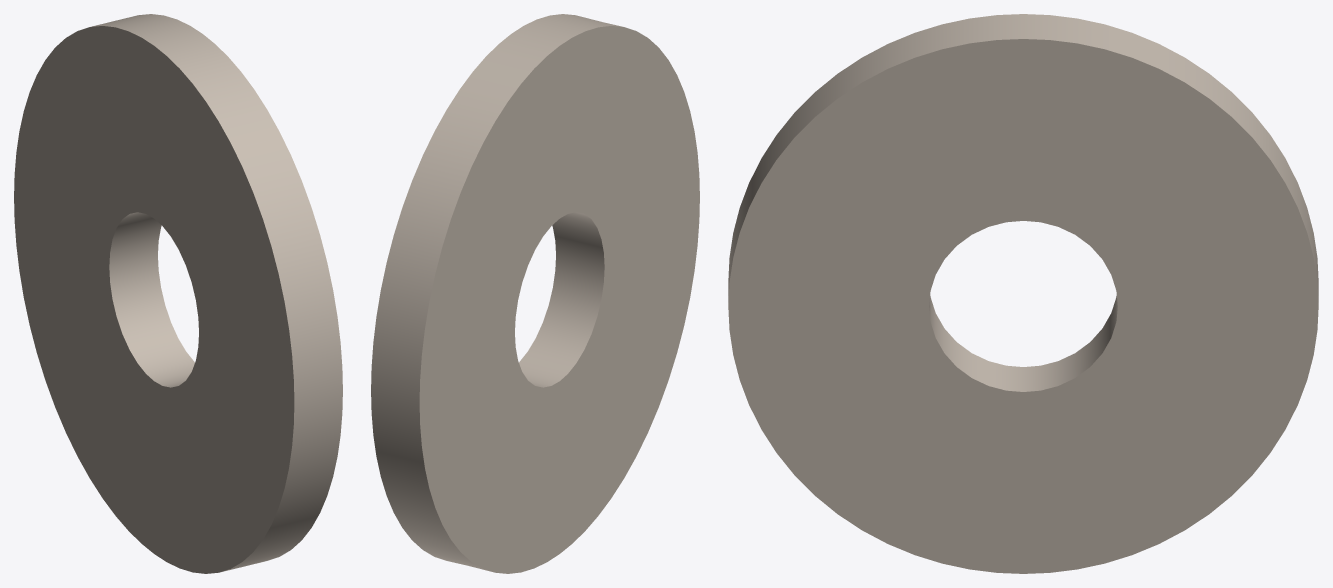
Rendered from Body2.dae.
3 renders of one model, left to right at view 1: azimuth 30°, elevation 25°; view 2: azimuth 150°, elevation 25°; view 3: azimuth 270°, elevation 25°, orthographic. The views are drawn at different scales.
Visible parts, largest first — view 1: Body2; view 2: Body2; view 3: Body2.
Part boxes in pixels (x1,y1,x2,y2): Body2: [14, 14, 342, 573]; Body2: [371, 14, 699, 573]; Body2: [728, 14, 1318, 573].
Bounding box in the file's own units: 0.25 × 2.5 × 2.5.
